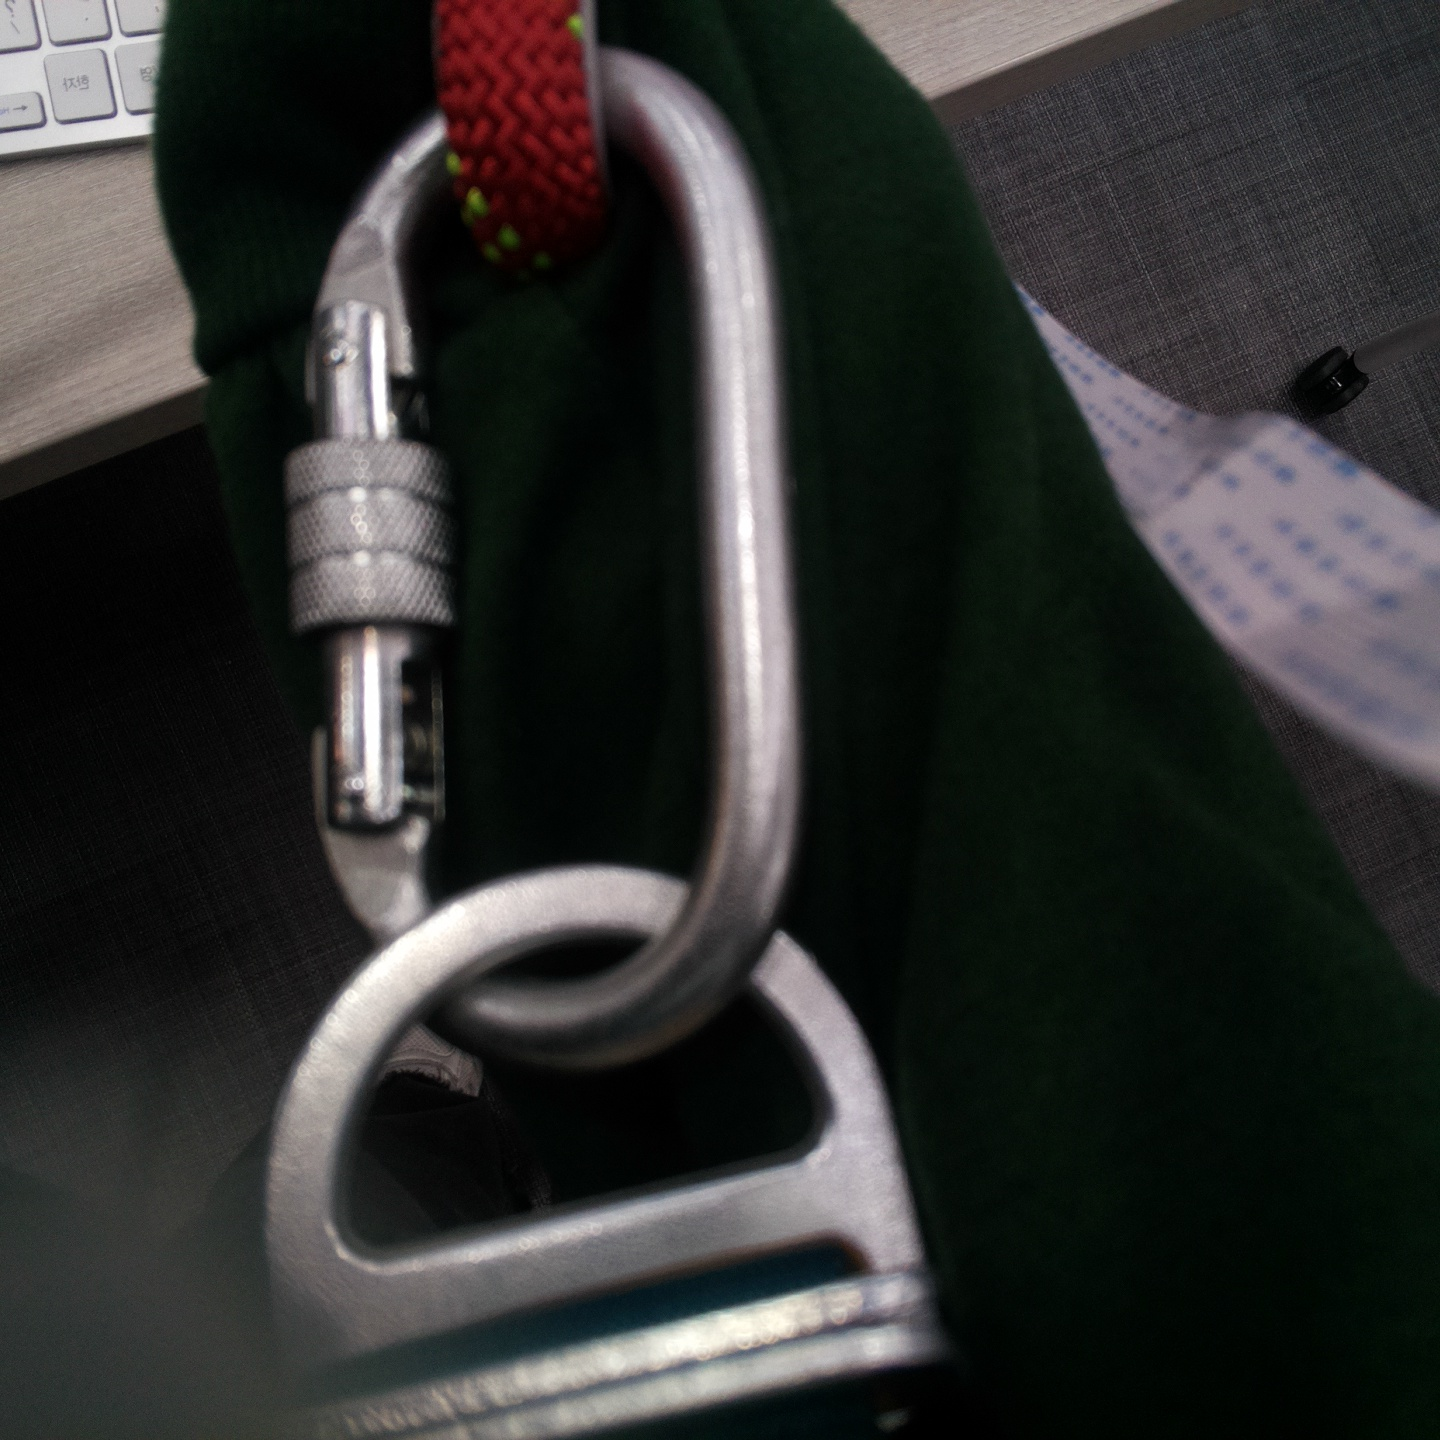SUCCESS: (264, 359, 828, 847)
